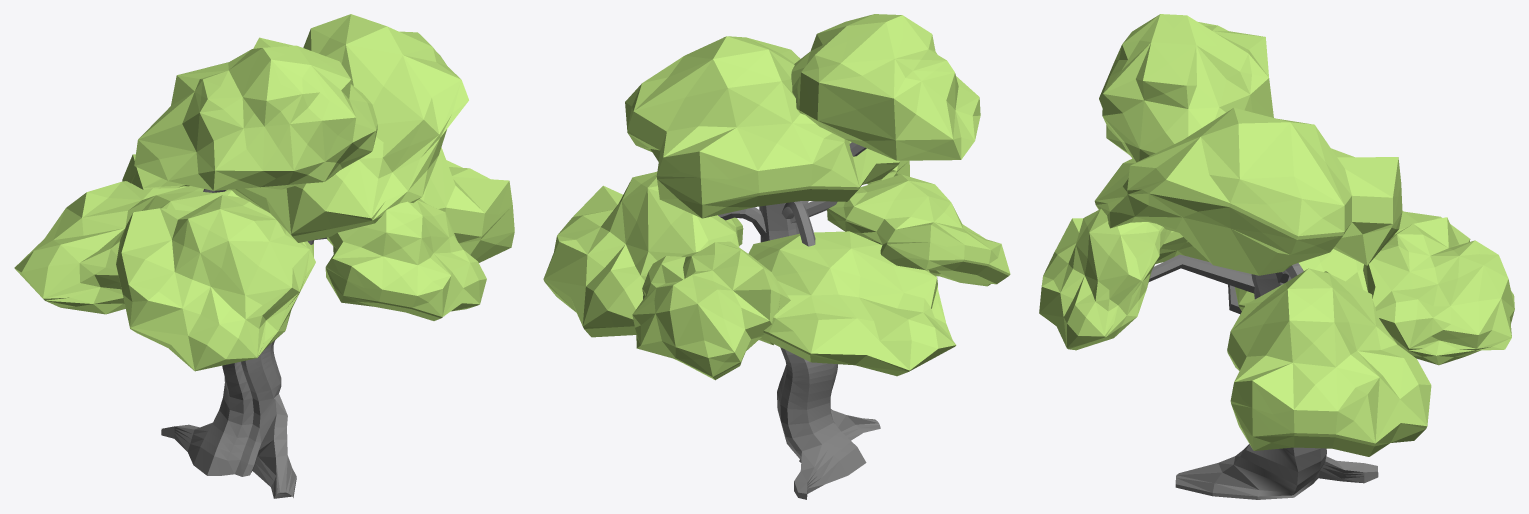
File: arbre_gros.fbx
3 renders of one model, left to right at view 1: azimuth 30°, elevation 25°; view 2: azimuth 150°, elevation 25°; view 3: azimuth 270°, elevation 25°, orthographic. The views are drawn at different scales.
Visible parts, largest first — view 1: arbre_gros; view 2: arbre_gros; view 3: arbre_gros.
Part boxes in pixels (left/top/right/bottom): arbre_gros: left=14, top=14, right=514, bottom=498; arbre_gros: left=543, top=14, right=1010, bottom=499; arbre_gros: left=1039, top=14, right=1514, bottom=499.
Bounding box in the file's own units: 192 × 189 × 176.
